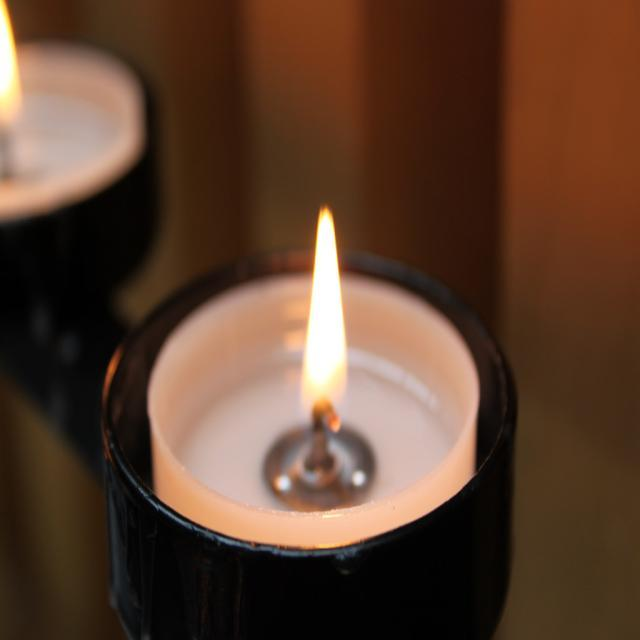Fire: (314, 238, 342, 390)
